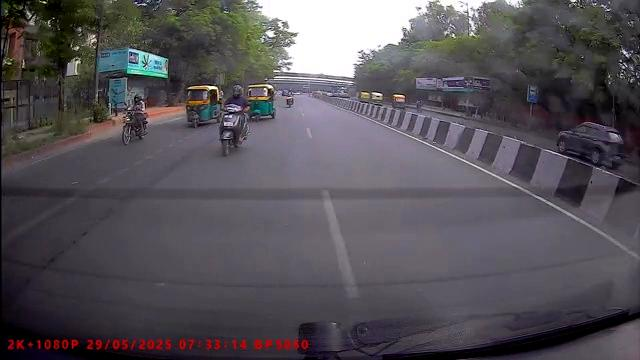motorcycle_with_helmet: (217, 83, 252, 158), (120, 92, 149, 147)
